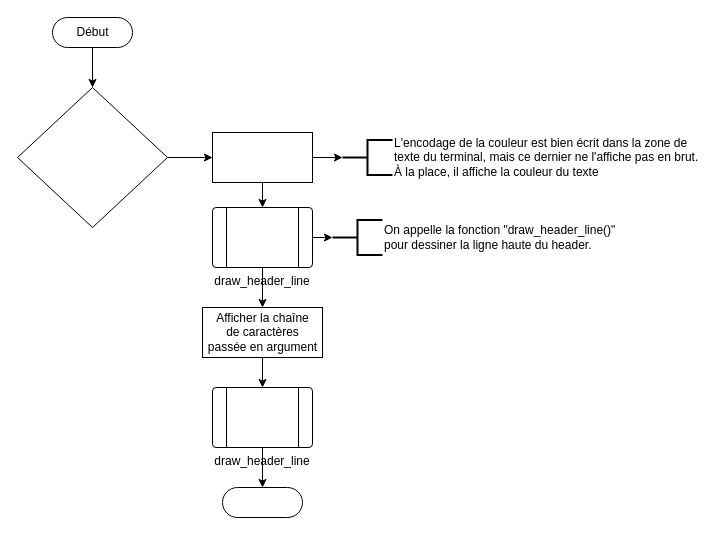
Some shapes in this 716 by 535 pixel diagram are drawn without their labels. The shapes that lost their labels are listed below. From the top down, each one's centre as x and y in pixels, then its label:
the point at 92,157: L'encodage de la couleur a été écrit dans le terminal
the point at 262,157: Écrire l'encodage de la couleur
the point at 262,502: Fin
